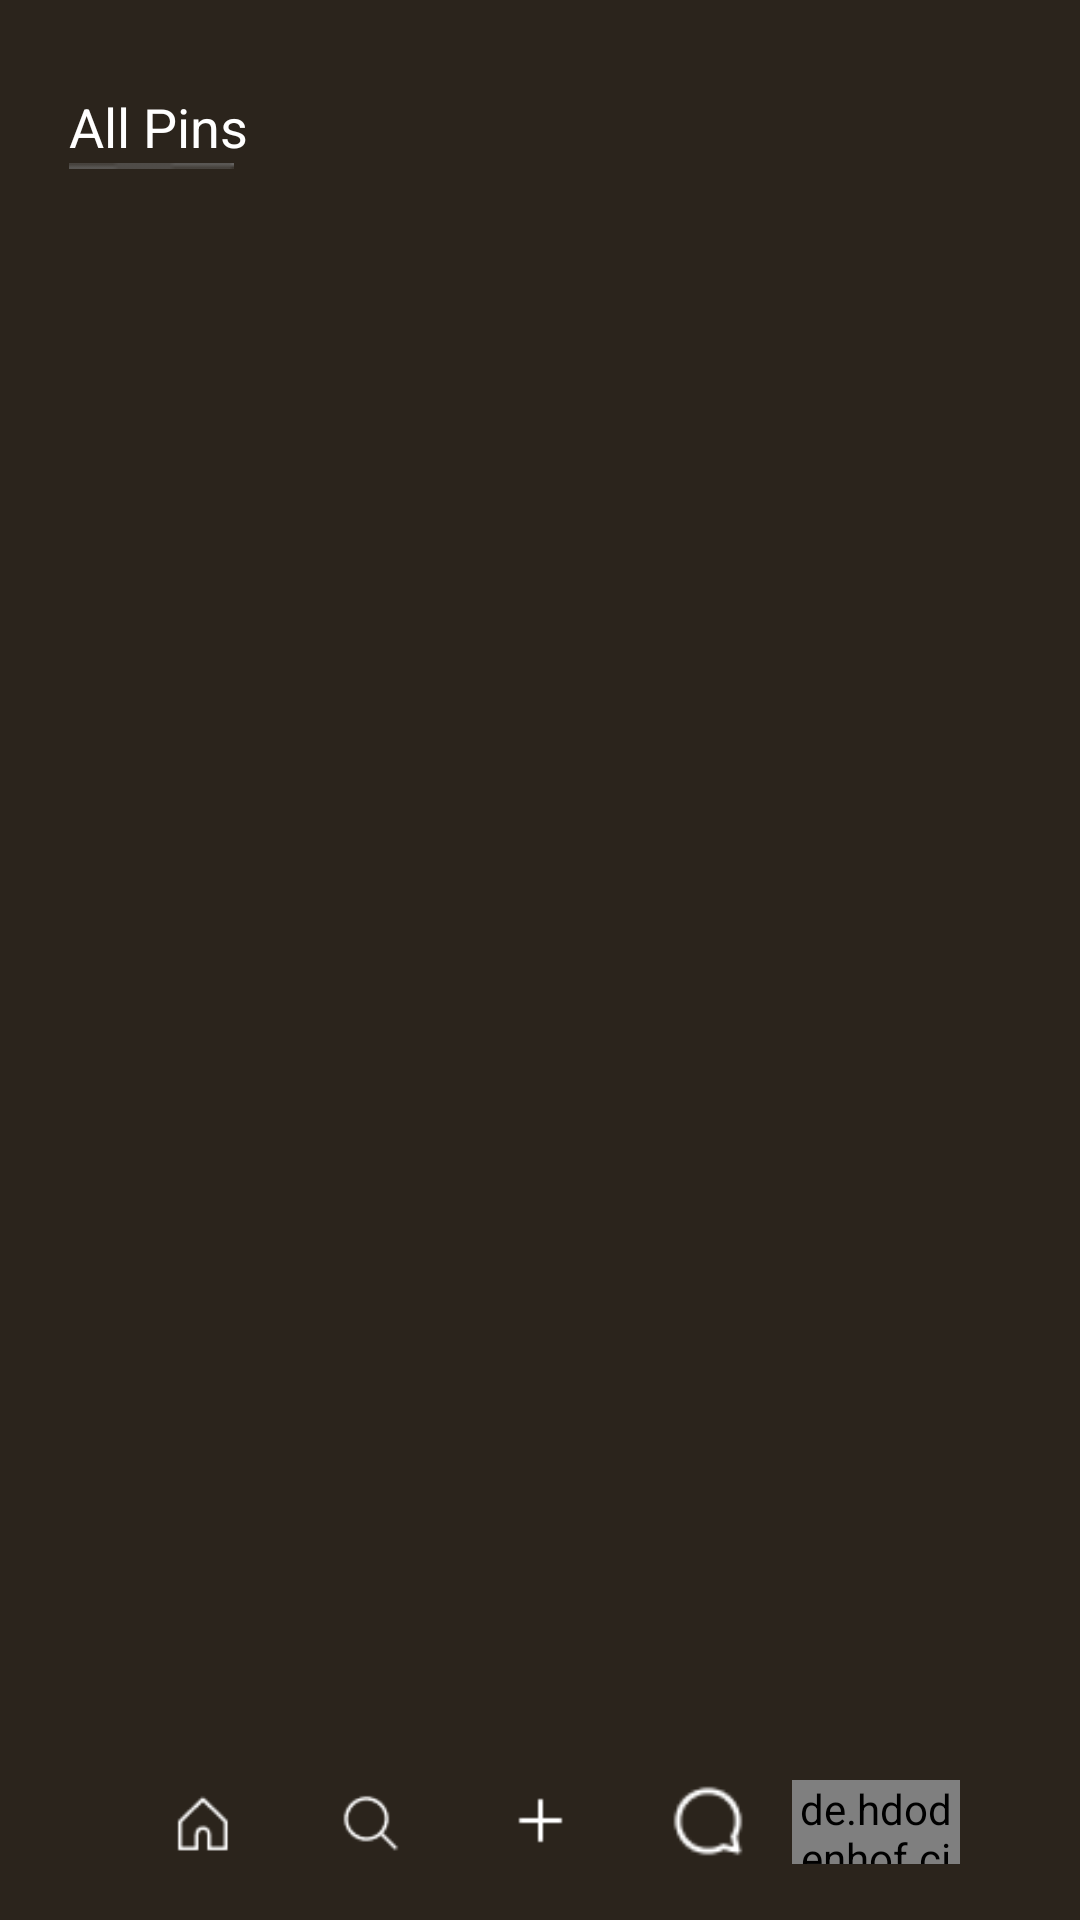

Named icons in this screenshot (1080px x 1920px) and their centers, (x,y):
comment: (708,1821)
plus: (540,1820)
search: (370,1823)
